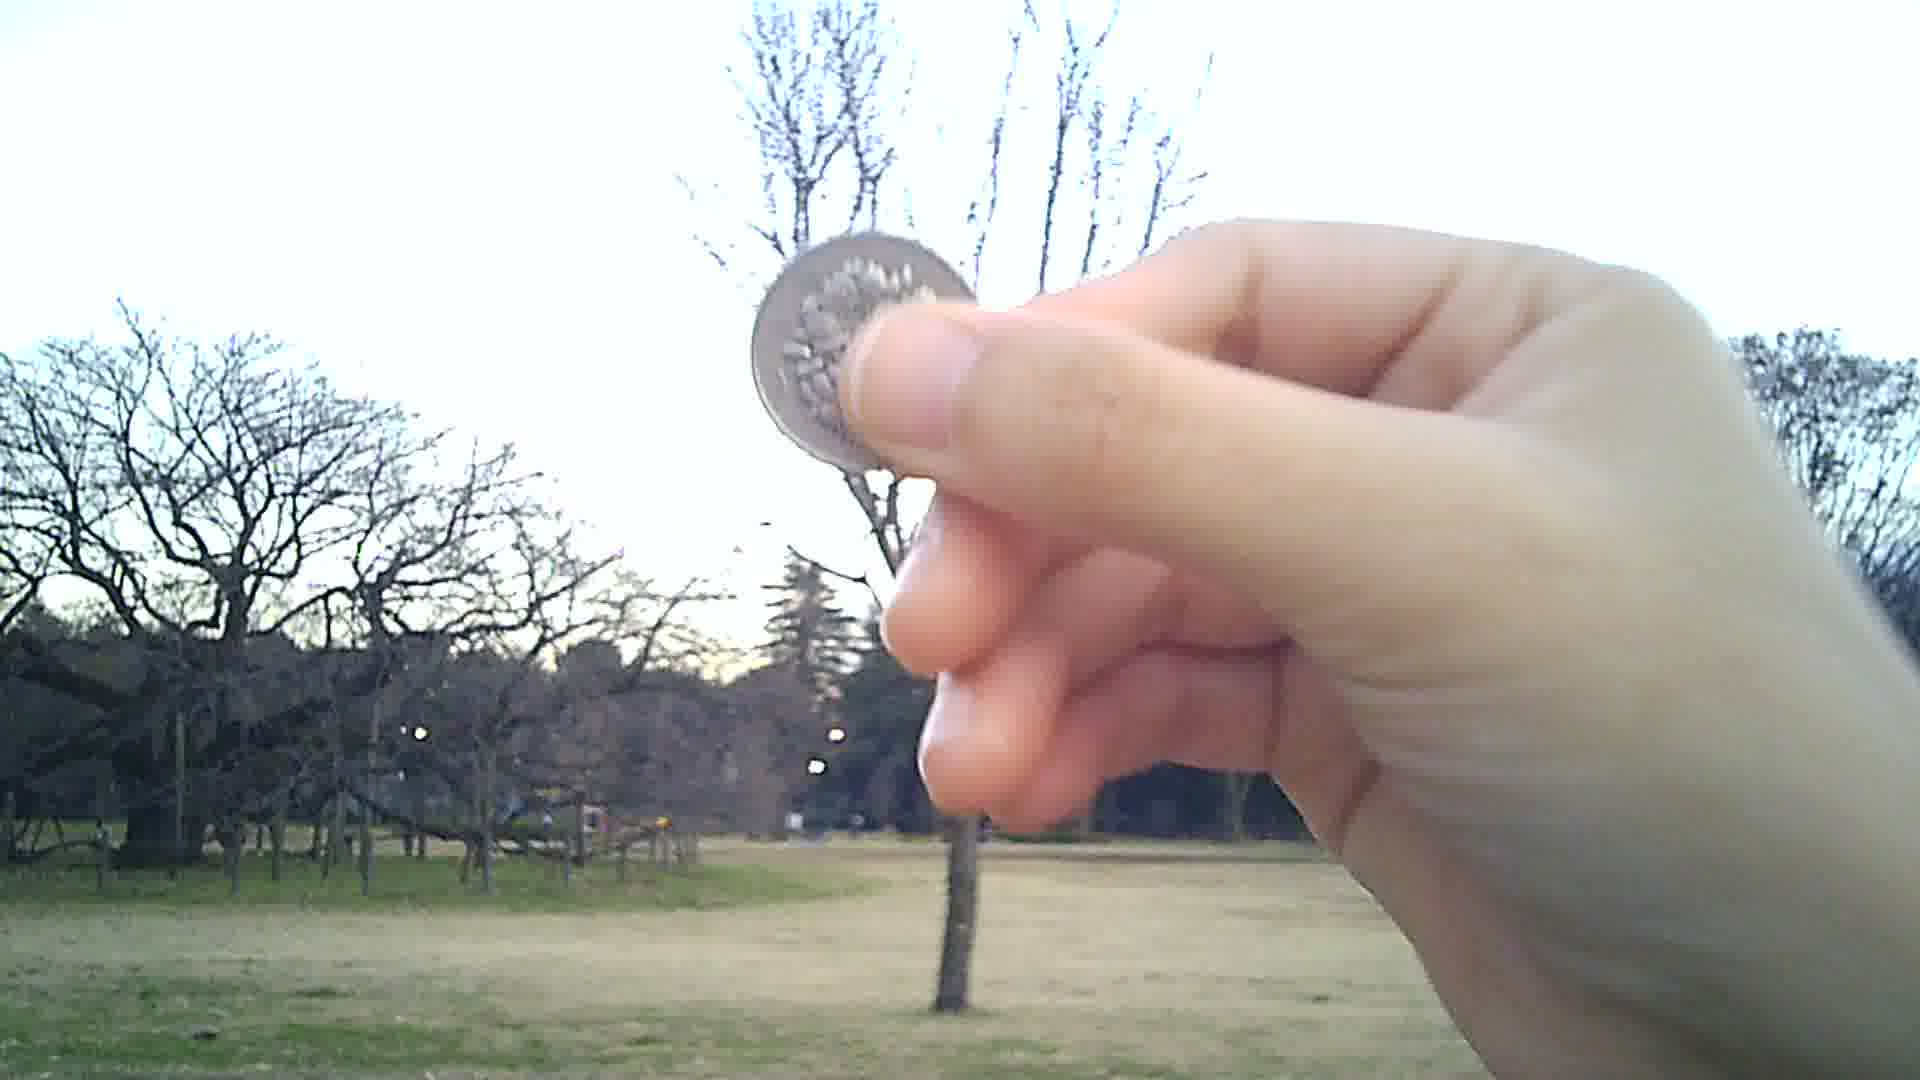100 Yen: (748, 229, 978, 469)
